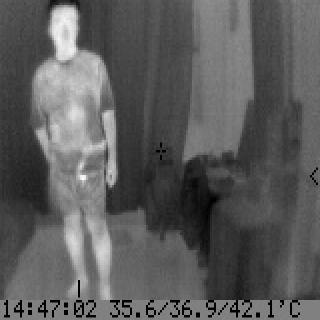Gun: (76, 138, 110, 182)
